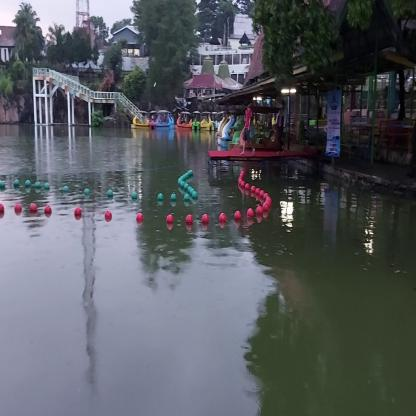green_buoy: (34, 180, 42, 192), (107, 188, 114, 199), (170, 193, 177, 204), (44, 180, 50, 192), (0, 181, 6, 193), (84, 186, 90, 198), (157, 192, 164, 202), (25, 178, 31, 189), (13, 179, 20, 188), (131, 191, 138, 200), (63, 184, 69, 194), (192, 190, 198, 200), (184, 193, 190, 203), (183, 183, 189, 191), (187, 185, 192, 194), (180, 181, 185, 188), (190, 188, 194, 196), (187, 170, 191, 176), (178, 178, 182, 184), (190, 170, 193, 176), (183, 174, 186, 180), (185, 173, 188, 178), (180, 176, 183, 181)
red_buoy: (218, 211, 228, 225), (136, 211, 144, 226), (104, 210, 113, 223), (233, 210, 242, 223), (30, 202, 38, 216), (201, 212, 210, 224), (185, 213, 194, 225), (246, 206, 254, 219), (166, 213, 174, 226), (262, 202, 270, 214), (44, 205, 52, 216), (74, 208, 82, 218), (245, 183, 251, 196), (15, 204, 22, 215), (240, 181, 246, 192), (250, 185, 256, 196), (266, 196, 272, 207), (256, 205, 262, 216), (238, 179, 243, 192), (255, 188, 260, 200), (263, 193, 269, 203), (260, 190, 264, 203), (0, 203, 4, 215), (240, 170, 245, 178), (239, 174, 244, 180), (238, 177, 242, 183)
